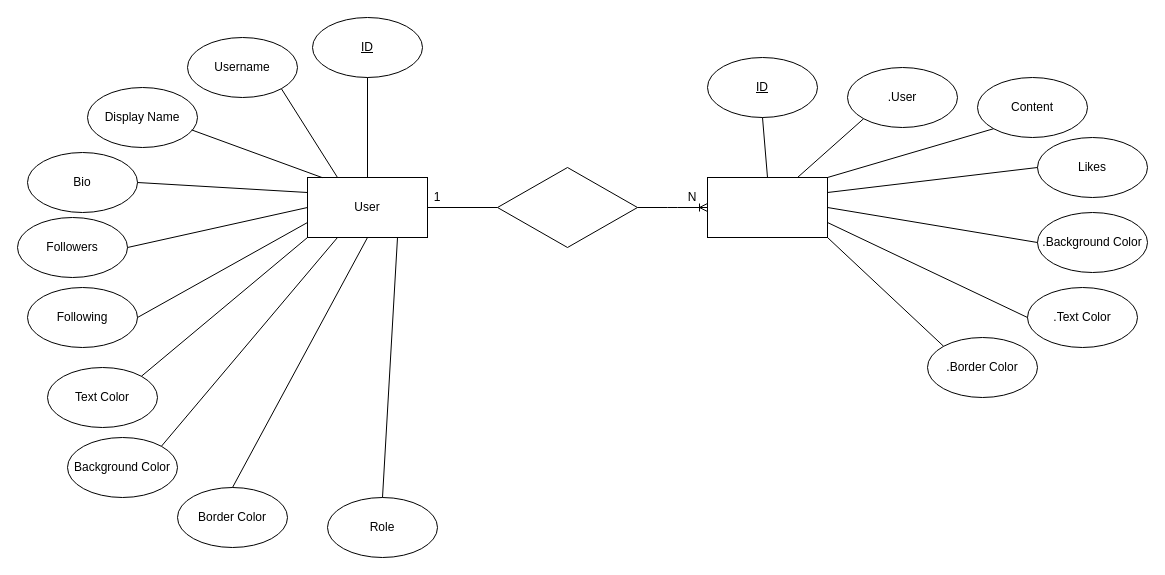
Some shapes in this 1165 by 575 pixel diagram are drawn without their labels. The shapes that lost their labels are listed below. From the top down, each one's centre as x and y in pixels, then its label:
At point 567,207: "Posted".
At point 767,207: "Post".
